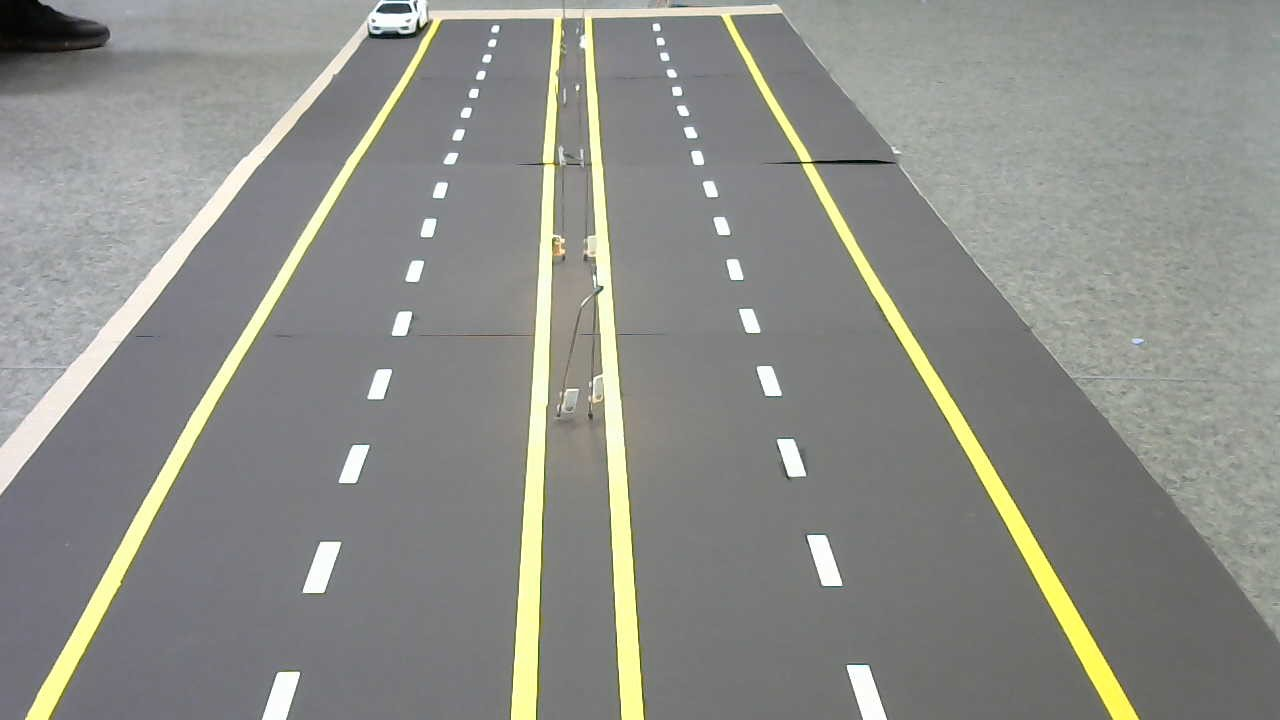front_car: (366, 2, 429, 36)
